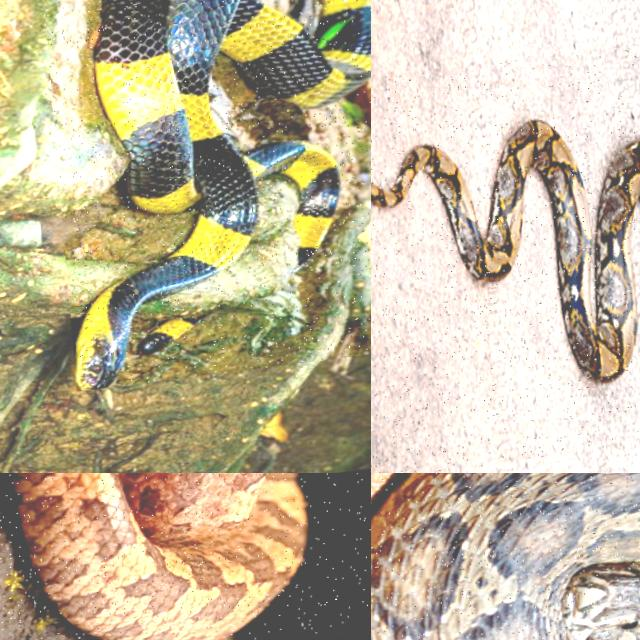Bungarus fasciatus: (74, 0, 370, 387)
Daboia siamensis: (371, 473, 639, 639)
Malayopython reticulatus: (371, 120, 639, 381)
Ovophis monticola: (13, 473, 305, 639)
